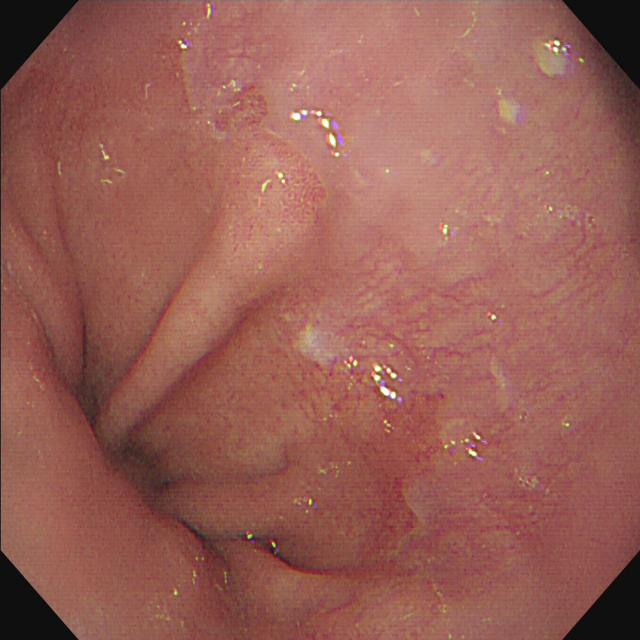I: (21, 57, 460, 634)
U: (289, 109, 345, 157), (371, 361, 406, 406)
